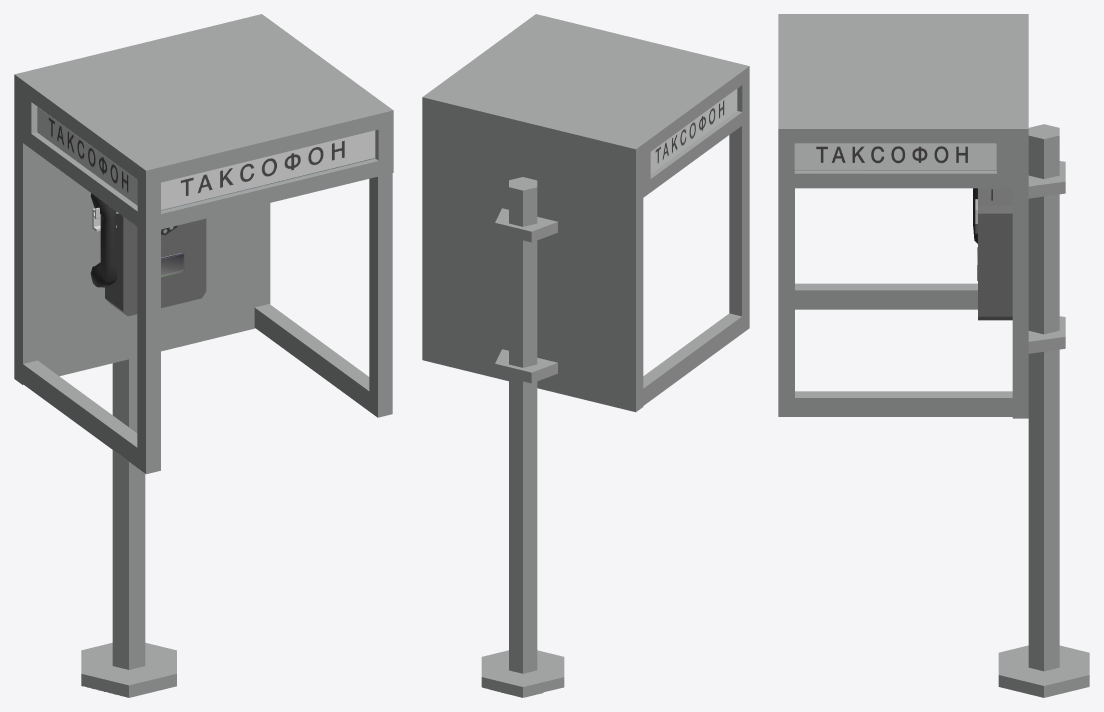
Rendered from Taksofon.FBX.
3 views of the same model, side by side, from view 1: azimuth 30°, elevation 25°; view 2: azimuth 150°, elevation 25°; view 3: azimuth 270°, elevation 25° (orthographic). The views are drawn at different scales.
Parts seen in each view (by area): view 1: Taksofon_02; view 2: Taksofon_02; view 3: Taksofon_02.
Boxes of the visible parts, box(x1,y1,x2,y2) form: Taksofon_02: box(14, 14, 393, 697); Taksofon_02: box(422, 14, 749, 697); Taksofon_02: box(778, 14, 1089, 697).
Bounding box in the file's own units: 216 × 530 × 247.
1 material, 1 textured.
